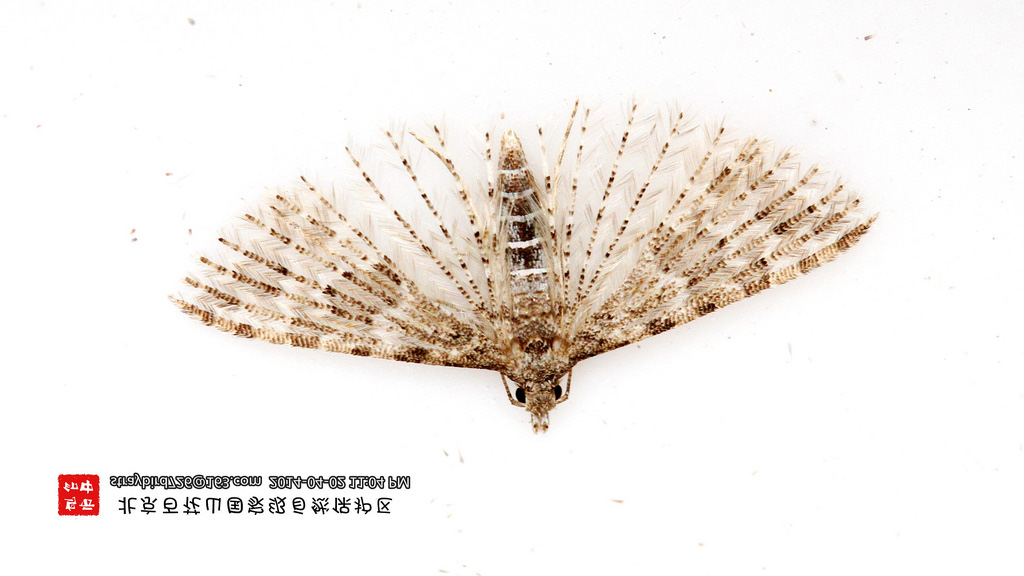Alucitidae: (153, 72, 896, 441)
moth: (155, 74, 898, 443)
